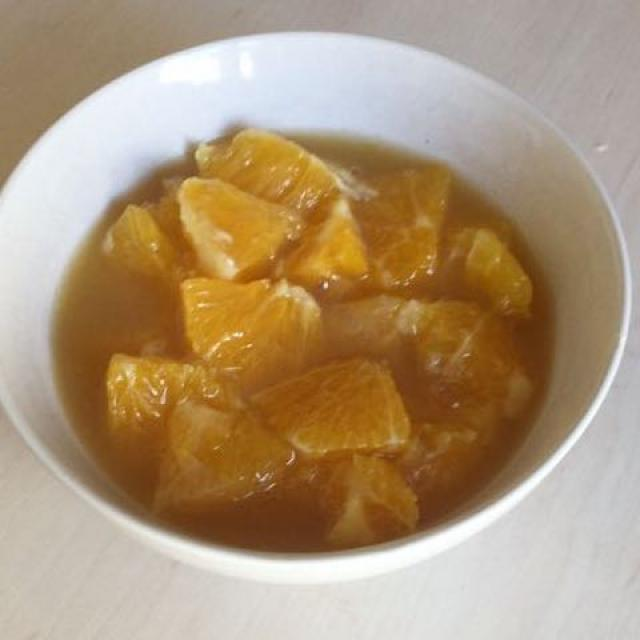orange: (61, 131, 538, 541)
